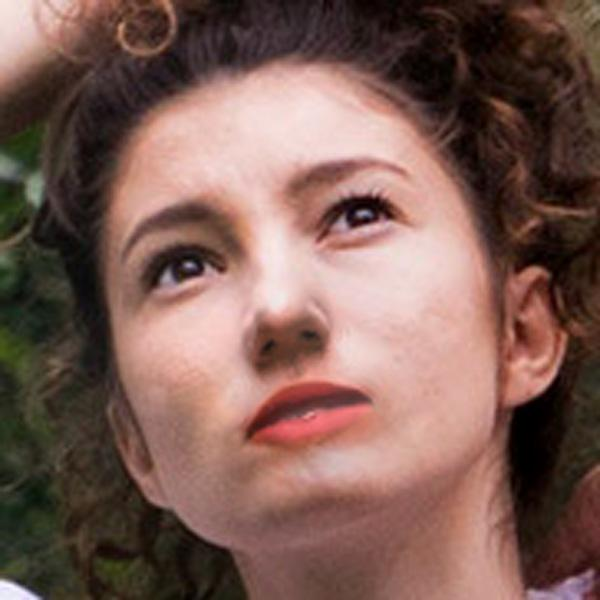Eyes: (306, 180, 411, 256), (137, 232, 234, 304)
